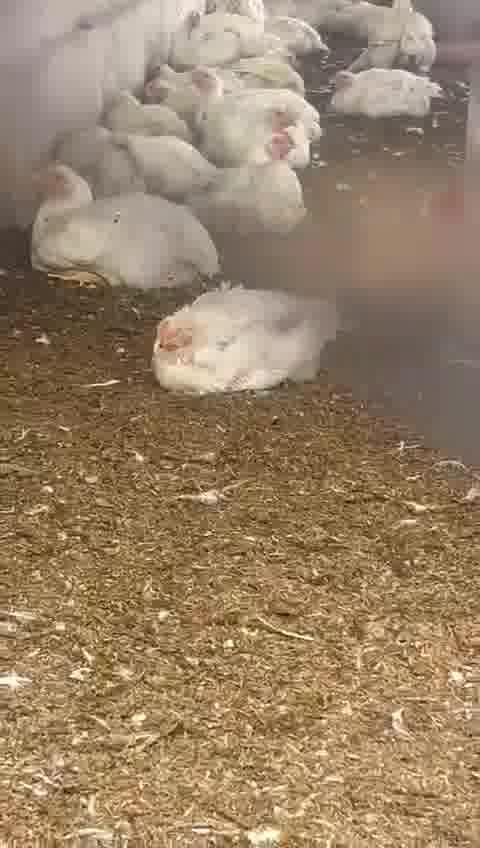AbNormal: (149, 295, 335, 392), (196, 129, 310, 232), (190, 69, 317, 160), (325, 65, 442, 121)
Normal: (24, 165, 220, 288)
